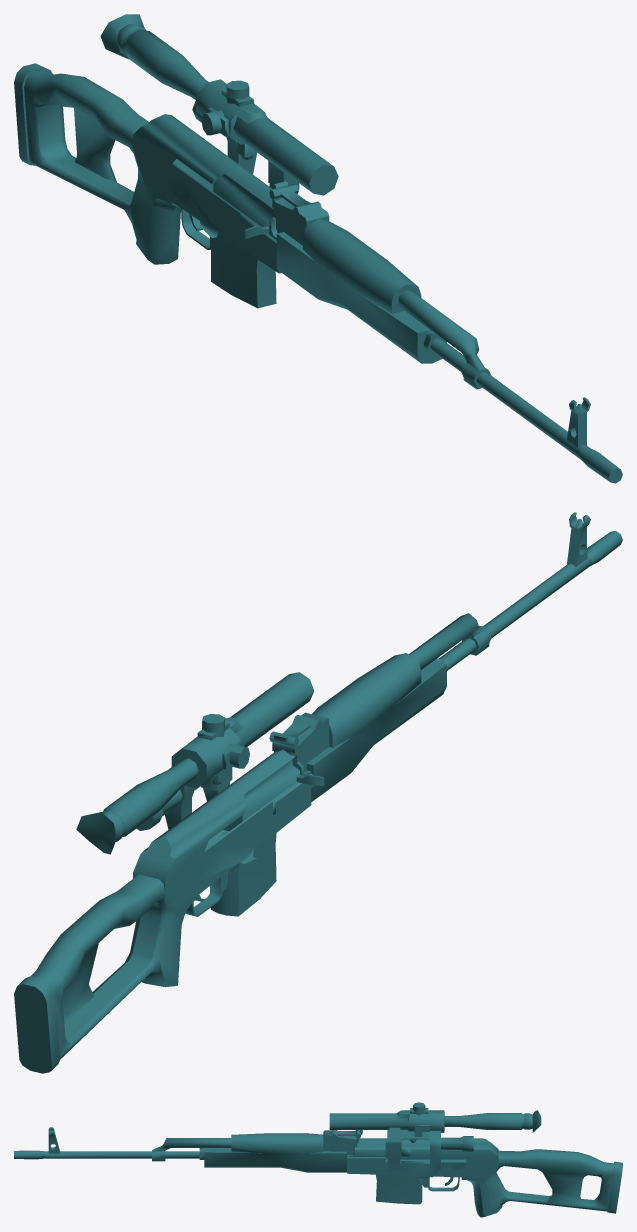
File: Dragunov_L0.fbx
The picture shows the model from 3 angles, top to bottom: view 1: azimuth 30°, elevation 25°; view 2: azimuth 150°, elevation 25°; view 3: azimuth 270°, elevation 25°; orthographic projection. The views are drawn at different scales.
Visible parts, largest first — view 1: Dragunov, Clip, Lock; view 2: Dragunov, Clip, Lock; view 3: Dragunov, Clip.
Part boxes in pixels (left/top/right/bottom): Dragunov: left=14, top=14, right=622, bottom=483; Clip: left=211, top=233, right=276, bottom=308; Lock: left=213, top=174, right=273, bottom=239; Dragunov: left=14, top=512, right=622, bottom=1073; Clip: left=211, top=831, right=276, bottom=916; Lock: left=223, top=759, right=324, bottom=831; Dragunov: left=14, top=1102, right=622, bottom=1217; Clip: left=376, top=1174, right=422, bottom=1204.
Size of the model in its own units: 0.1039 by 0.2501 by 1.22.
